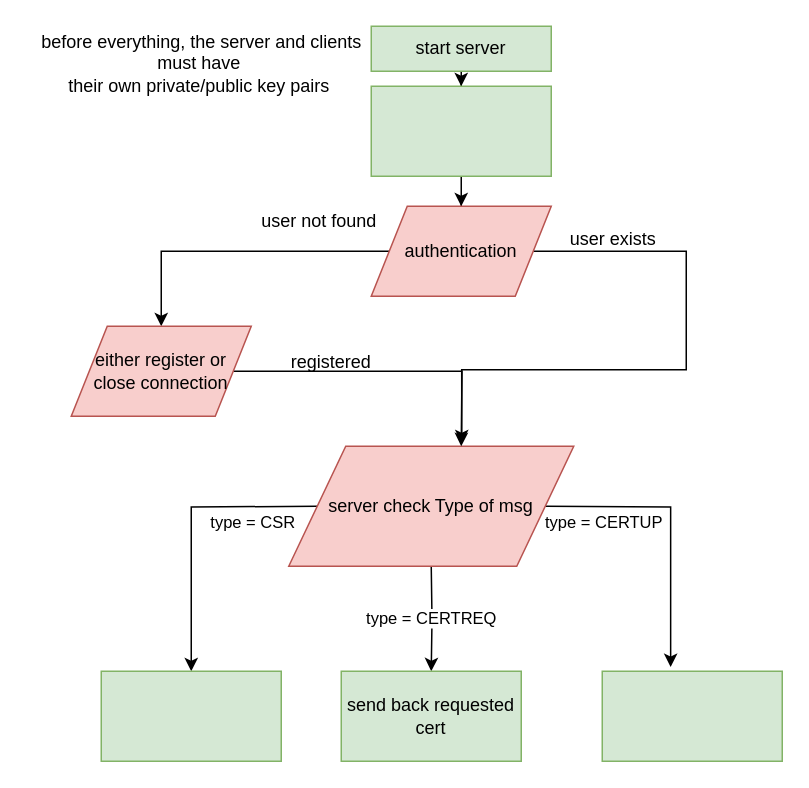
Image size: 809x788. Some labels were removed from this diagram. Each missing label, with the centre of its shape:
"client connects and sends msg" belongs at (460,130).
"save client's uploaded cert. and send Ack to client" belongs at (691,715).
"sign client puKey using servers prKey and send it to client" belongs at (190,715).
